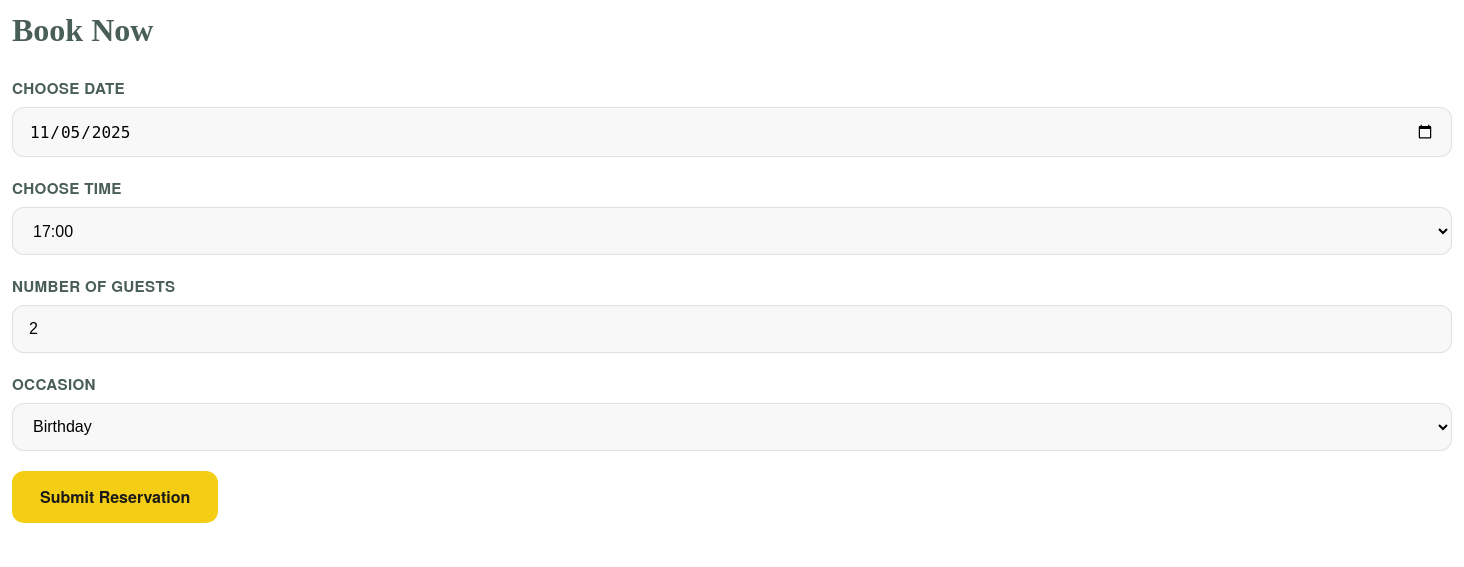
Scenario: shows error when guest count is below minimum
Replace the text in the number field labelled "Number of guests" with "0": (732, 329) [12,305,1452,353]
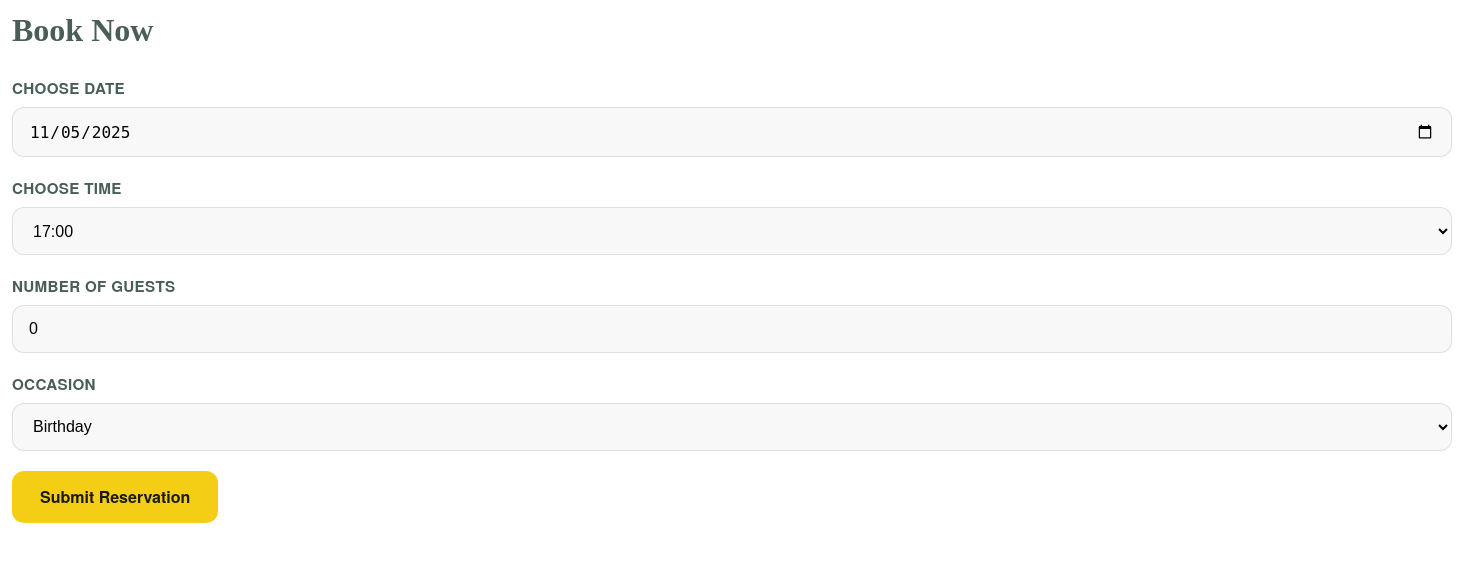
Leave the number field labelled "Number of guests", box [12,305,1452,353]
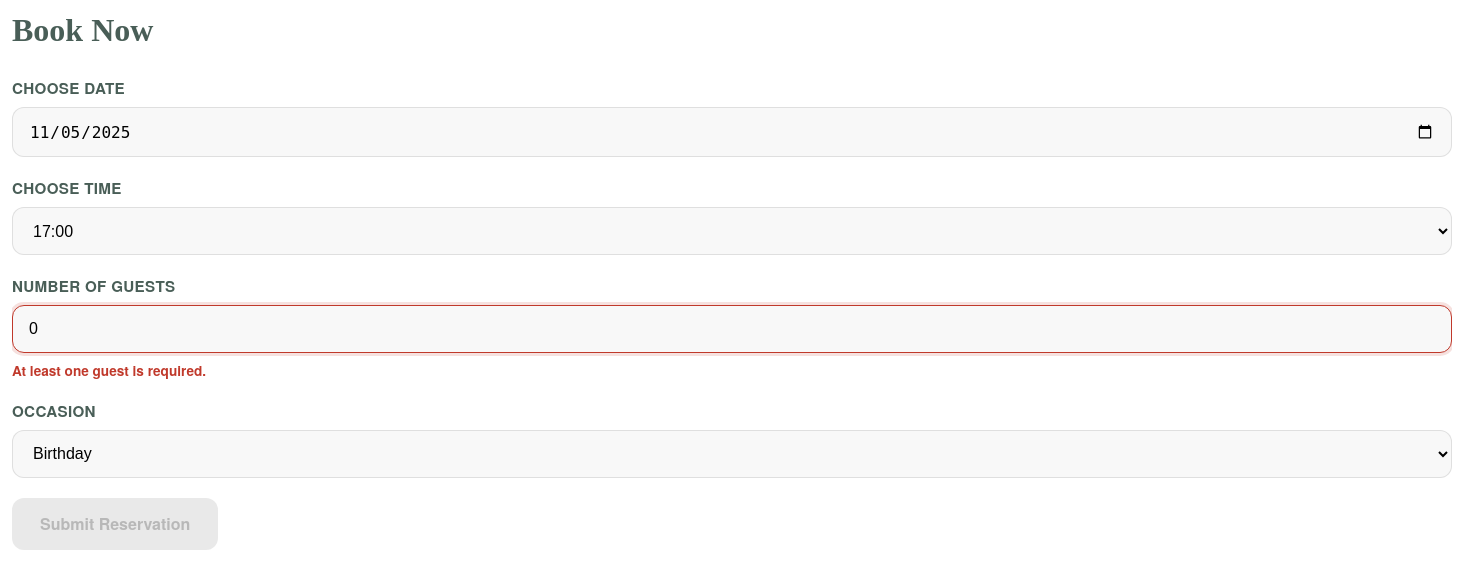
Expected: the text "At least one guest is required." is shown, [12,361,206,380]
Expected: the button "Submit Reservation" is disabled, [12,498,218,550]
